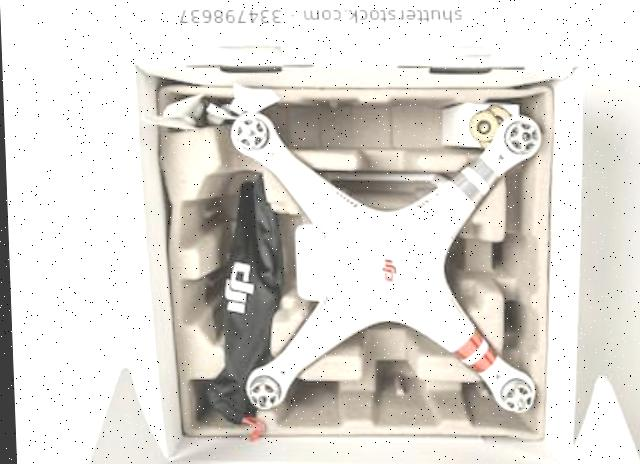drone: (174, 80, 571, 428)
